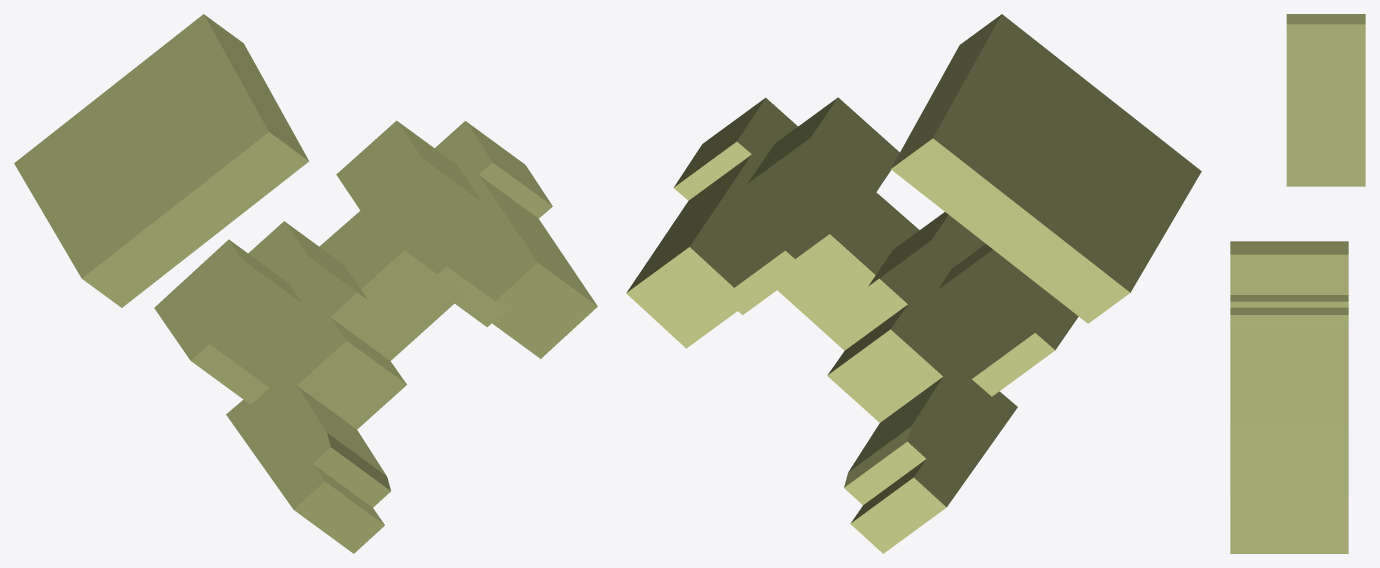
The picture shows the model from 3 angles, left to right: view 1: azimuth 30°, elevation 25°; view 2: azimuth 150°, elevation 25°; view 3: azimuth 270°, elevation 25°; orthographic projection. The views are drawn at different scales.
Parts seen in each view (by area): view 1: 0_0_1_1_2_2_0; view 2: 0_0_1_1_2_2_0; view 3: 0_0_1_1_2_2_0.
Boxes of the visible parts, bbox=[...] form: 0_0_1_1_2_2_0: bbox=[14, 14, 597, 553]; 0_0_1_1_2_2_0: bbox=[626, 14, 1201, 553]; 0_0_1_1_2_2_0: bbox=[1230, 14, 1365, 553].
Bounding box in the file's own units: 44.41 × 41.97 × 10.3.
